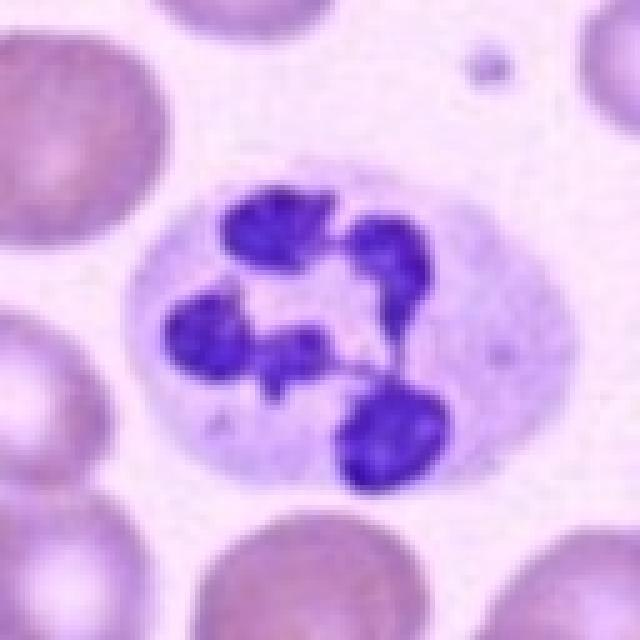neutro: (100, 137, 560, 503)
